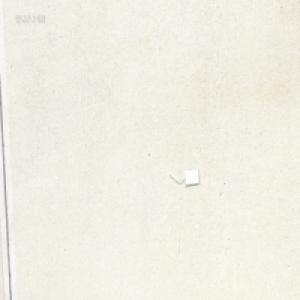LuggageTag: (168, 167, 200, 185)
